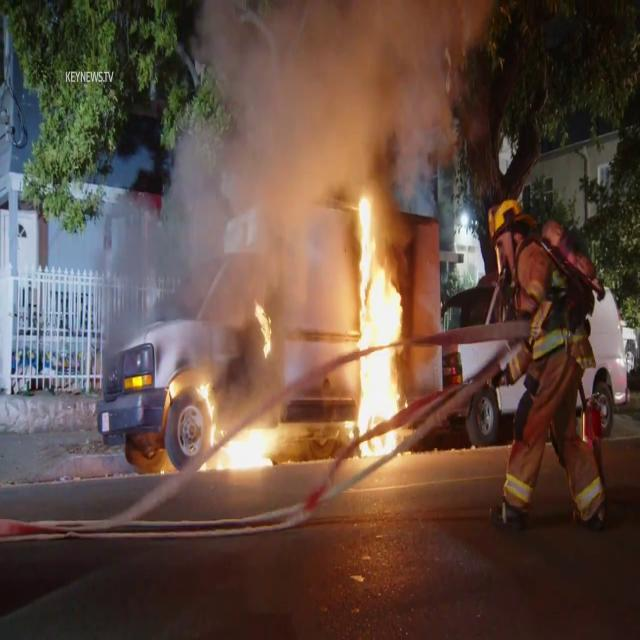Fire: (343, 182, 414, 454), (206, 412, 280, 476)
Smoke: (110, 0, 488, 336)
